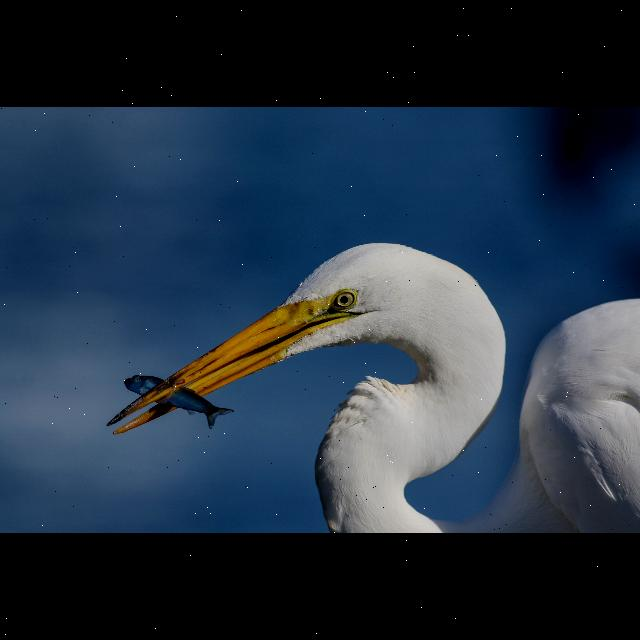egret: (92, 230, 640, 534)
